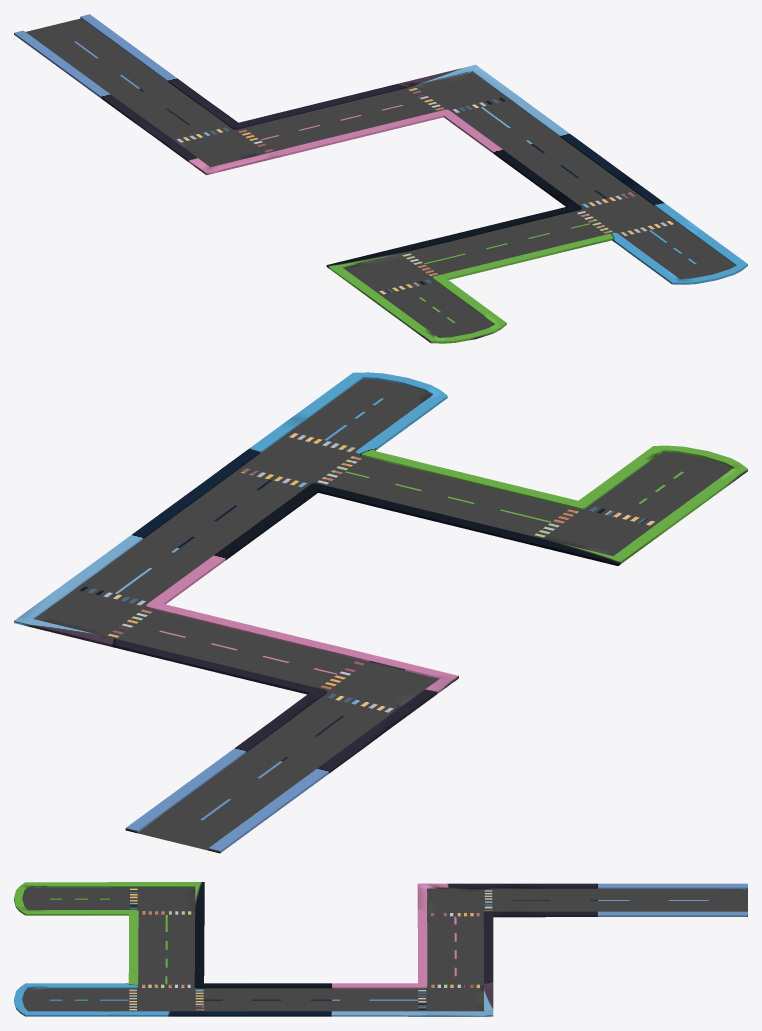
File: RoadLeft.fbx
The picture shows the model from 3 angles, top to bottom: view 1: azimuth 30°, elevation 25°; view 2: azimuth 150°, elevation 25°; view 3: azimuth 270°, elevation 25°; orthographic projection. The views are drawn at different scales.
Visible parts, largest first — view 1: two-lane-linear-road-piece.001; view 2: two-lane-linear-road-piece.001; view 3: two-lane-linear-road-piece.001.
Part boxes in pixels (x1,y1,x2,y2): two-lane-linear-road-piece.001: (14,14,747,343); two-lane-linear-road-piece.001: (14,372,747,853); two-lane-linear-road-piece.001: (14,882,747,1016).
Size of the model in its own units: 4680 by 31.24 by 10913.
